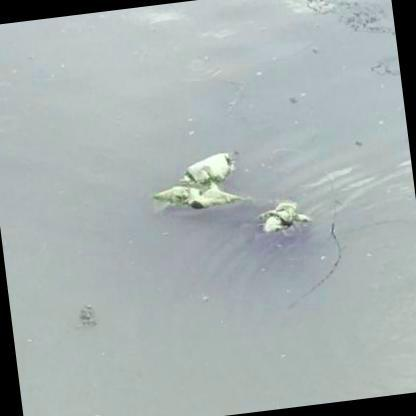Trash: (148, 181, 237, 214), (257, 199, 309, 240), (183, 153, 234, 188)
